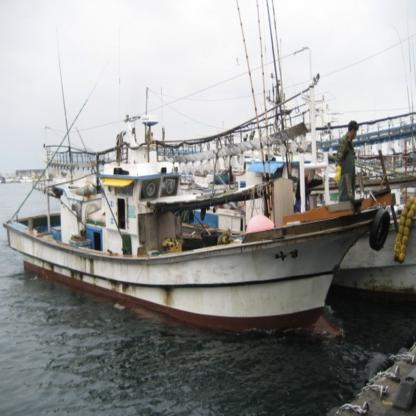fish-b: (0, 112, 402, 347)
